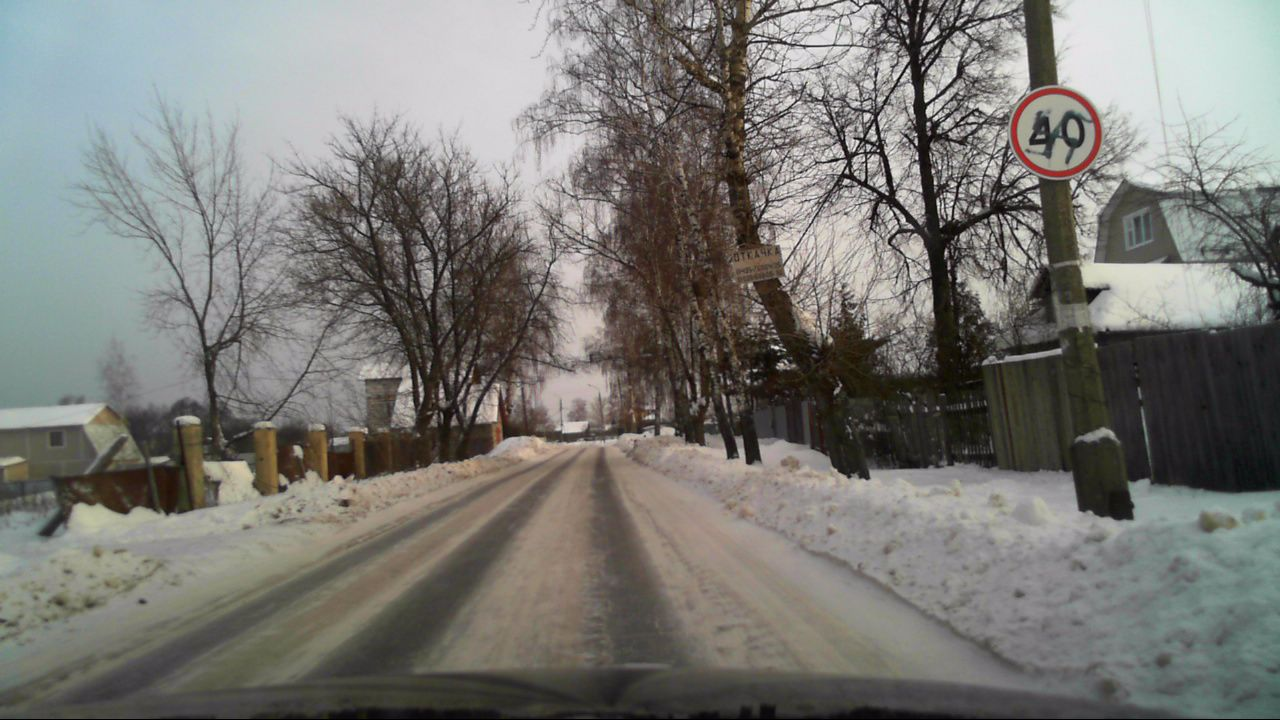speed_warning_40: (1005, 85, 1103, 179)
